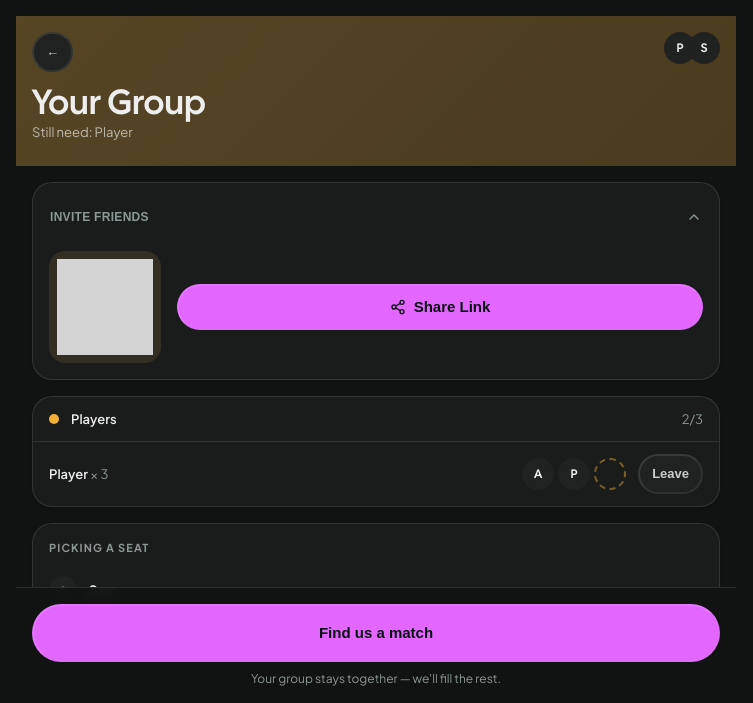
Scenario: GroupPage › asking for the rest of the match › surfaces a refused request instead of leaving the button looking pressed
Click the button "Find us a match" at x=376, y=633, box [32,604,720,662]
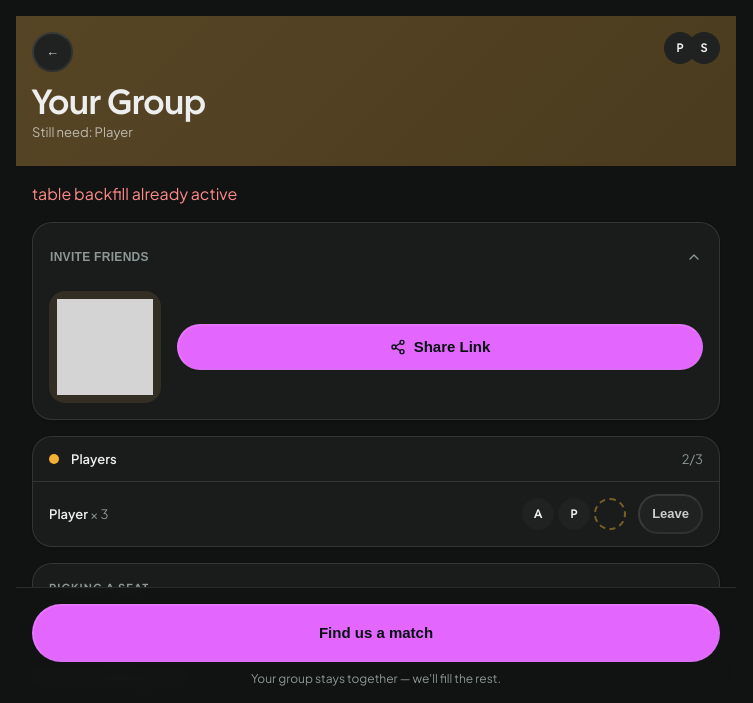
Expected: the text "table backfill already active" is shown, [32,183,237,204]
